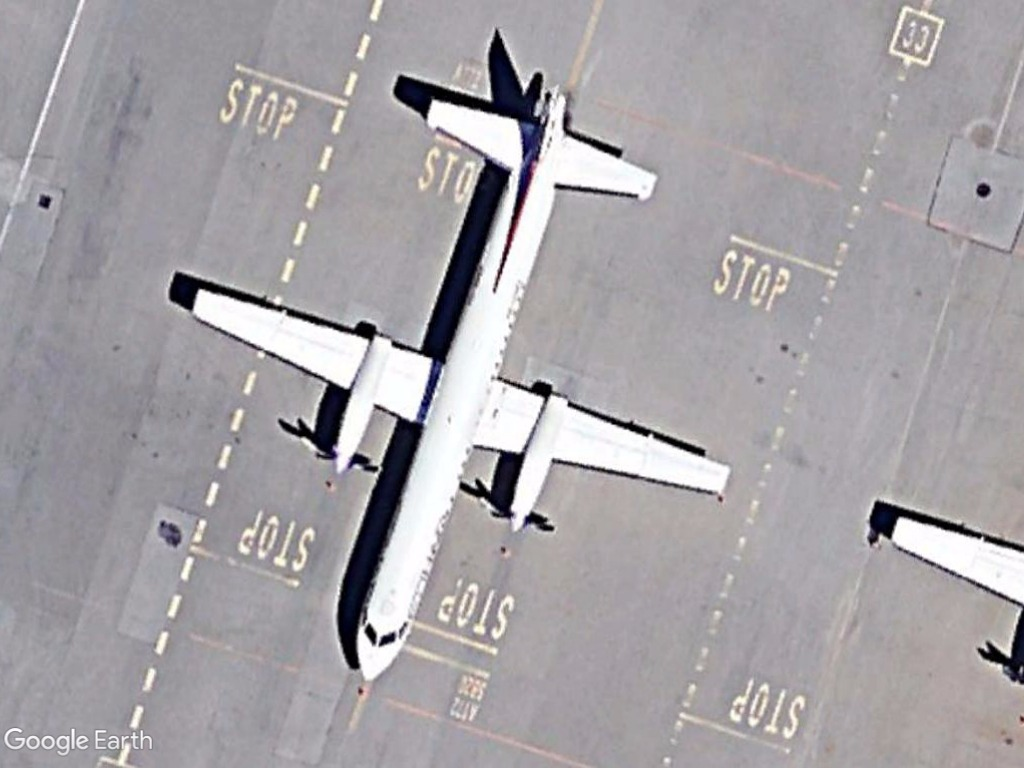propeller: (167, 60, 739, 699)
